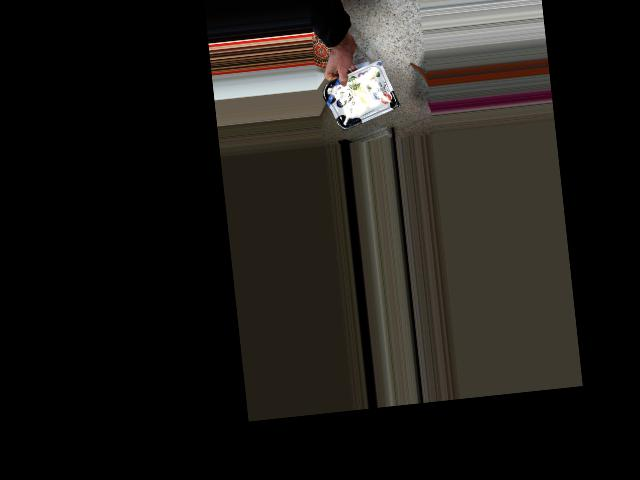cheese: (325, 71, 392, 124)
